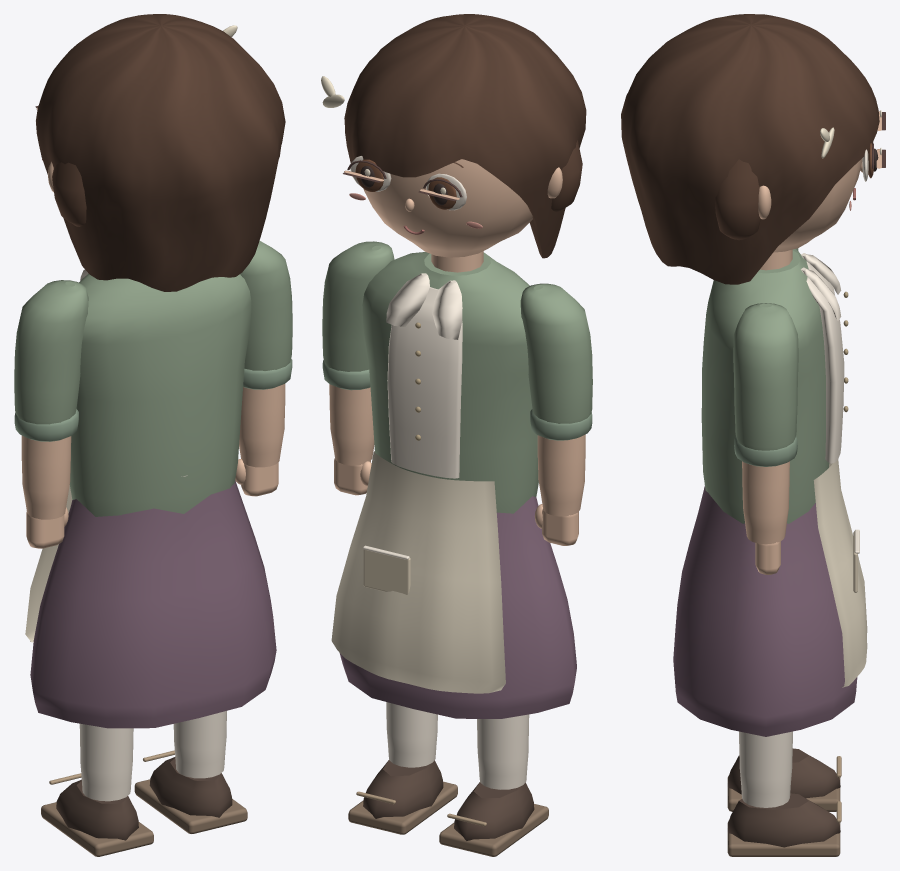
File: misaki-native-v3.glb
The picture shows the model from 3 angles, left to right: view 1: azimuth 30°, elevation 25°; view 2: azimuth 150°, elevation 25°; view 3: azimuth 270°, elevation 25°; orthographic projection. The views are drawn at different scales.
Parts seen in each view (by area): view 1: head.surface.9, body.surface.3, body.surface.0, arm-left.surface.30, arm-right.surface.39, shin-left.surface.35, forearm-left.surface.32, forearm-right.surface.41, foot-right.surface.45, foot-left.surface.36, shin-right.surface.44, foot-left.surface.37 (+7 smaller); view 2: head.surface.9, body.surface.4, body.surface.0, body.surface.3, body.surface.1, head.surface.7, arm-left.surface.30, arm-right.surface.39, shin-left.surface.35, forearm-left.surface.32, foot-left.surface.36, foot-right.surface.45 (+11 smaller); view 3: head.surface.9, body.surface.3, body.surface.0, arm-right.surface.39, body.surface.4, body.surface.1, foot-right.surface.45, shin-right.surface.44, forearm-right.surface.41, hair-secondary-right.surface.29, head.surface.7, foot-left.surface.36 (+4 smaller).
Boxes of the visible parts, x1,y1,x2,y2 form: head.surface.9: [36, 14, 285, 291]; body.surface.3: [30, 480, 276, 728]; body.surface.0: [69, 273, 251, 516]; arm-left.surface.30: [14, 280, 88, 424]; arm-right.surface.39: [240, 240, 292, 370]; shin-left.surface.35: [79, 723, 133, 801]; forearm-left.surface.32: [21, 435, 71, 519]; forearm-right.surface.41: [239, 384, 285, 467]; foot-right.surface.45: [149, 757, 232, 817]; foot-left.surface.36: [56, 779, 138, 840]; shin-right.surface.44: [173, 711, 226, 778]; foot-left.surface.37: [41, 802, 153, 856]; head.surface.9: [344, 14, 586, 258]; body.surface.4: [331, 451, 505, 693]; body.surface.0: [362, 252, 538, 513]; body.surface.3: [339, 496, 576, 718]; body.surface.1: [363, 273, 462, 559]; head.surface.7: [363, 159, 562, 257]; arm-left.surface.30: [520, 283, 592, 423]; arm-right.surface.39: [322, 241, 394, 371]; shin-left.surface.35: [477, 714, 529, 789]; forearm-left.surface.32: [537, 434, 585, 516]; foot-left.surface.36: [454, 782, 534, 840]; foot-right.surface.45: [363, 760, 443, 818]; head.surface.9: [621, 14, 879, 284]; body.surface.3: [673, 486, 857, 736]; body.surface.0: [701, 249, 829, 523]; arm-right.surface.39: [733, 303, 798, 450]; body.surface.4: [813, 459, 867, 687]; body.surface.1: [801, 253, 859, 553]; foot-right.surface.45: [727, 793, 840, 847]; shin-right.surface.44: [739, 731, 792, 807]; forearm-right.surface.41: [742, 461, 789, 544]; hair-secondary-right.surface.29: [715, 159, 760, 240]; head.surface.7: [758, 158, 862, 252]; foot-left.surface.36: [727, 748, 840, 798].
Size of the model in its own units: 0.5791 by 1.65 by 0.4962.
Materials: 21 (1 with a texture image).
